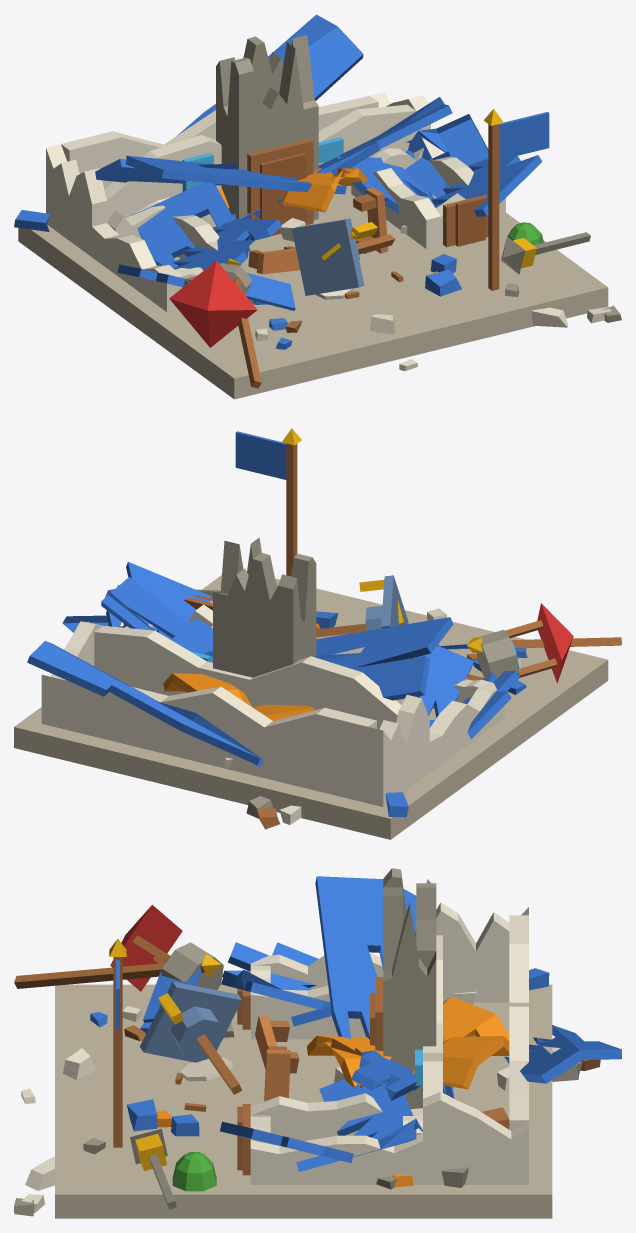
File: university_t2_v3_dmg2.glb
3 views of the same model, one above another, from view 1: azimuth 30°, elevation 25°; view 2: azimuth 150°, elevation 25°; view 3: azimuth 270°, elevation 25° (orthographic). The views are drawn at different scales.
Parts seen in each view (by area): view 1: university_t2_v3_dmg2; view 2: university_t2_v3_dmg2; view 3: university_t2_v3_dmg2.
Boxes of the visible parts, x1,y1,x2,y2 form: university_t2_v3_dmg2: (14,14,621,399); university_t2_v3_dmg2: (14,428,621,839); university_t2_v3_dmg2: (14,868,621,1218).
Bounding box in the file's own units: 0.8346 × 0.385 × 0.9169.
Materials: 1 (1 with a texture image).
